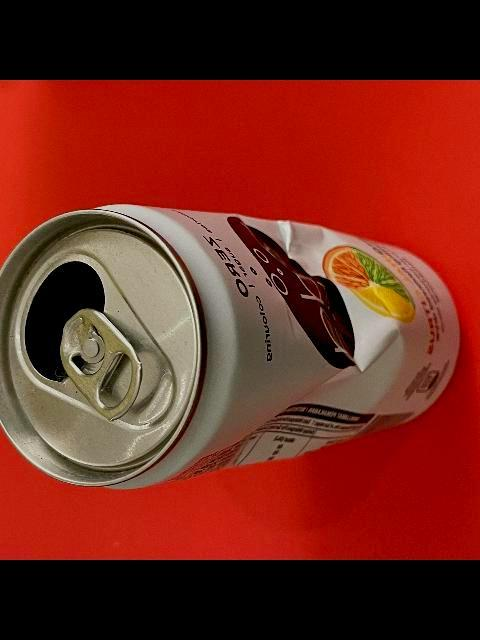drinkcan: (0, 204, 462, 492)
